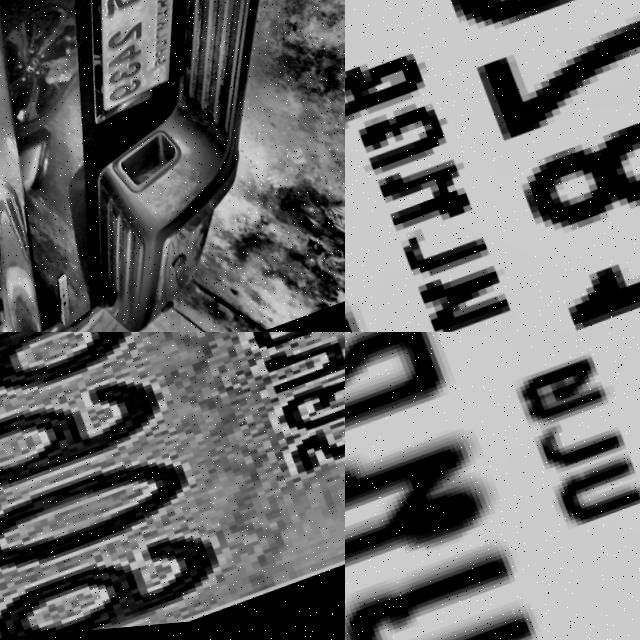license-plate: (0, 332, 345, 640), (345, 0, 640, 332), (345, 332, 640, 640), (19, 0, 258, 139)
